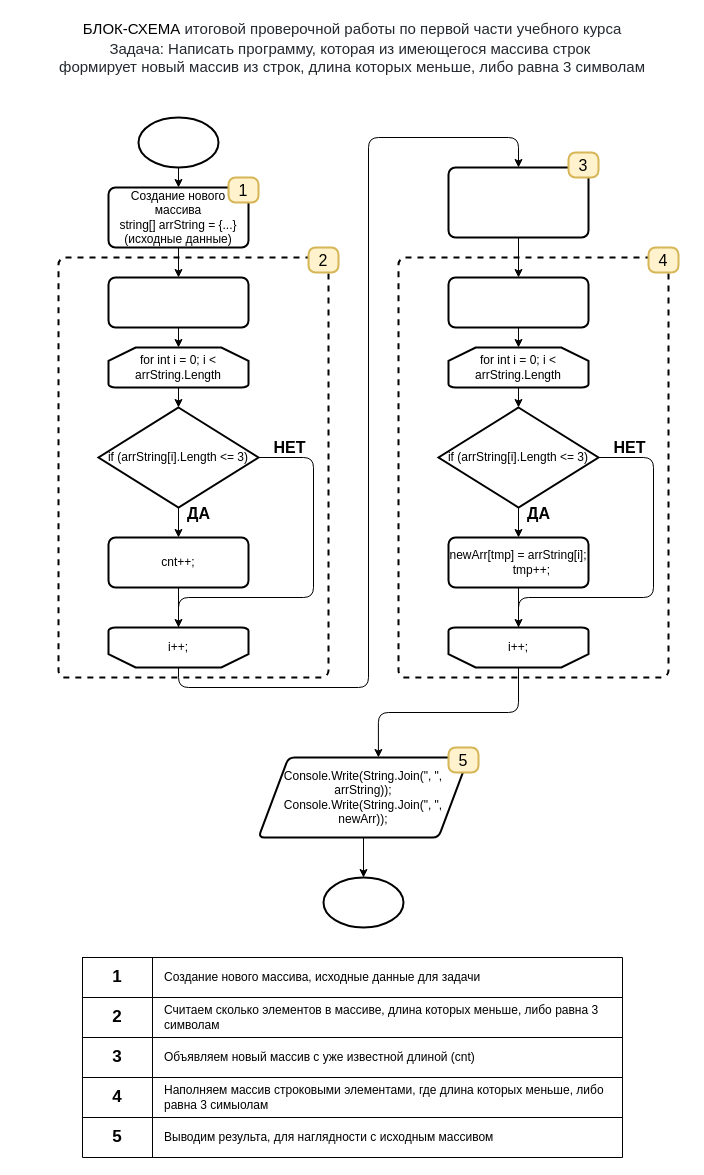
This 704x1175 diagram has some shape labels left out. Each missing label, with the box of its shape:
Finish: (322, 876, 404, 928)
Start: (137, 116, 219, 168)
объявили новую переменную int cnt = 0;: (107, 276, 249, 328)
объявили новую переменную int tmp = 0;: (447, 276, 589, 328)
Объявление нового массива string[] newArr = new string[cnt];: (447, 166, 589, 238)
